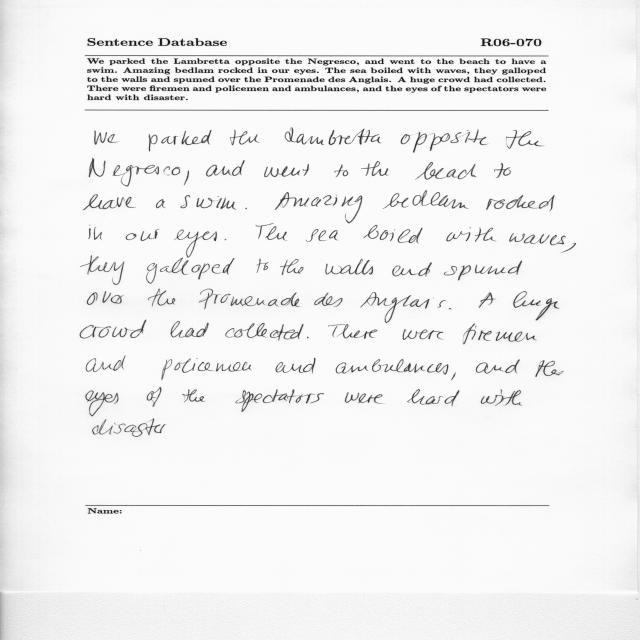word: (275, 192, 362, 223), (360, 292, 446, 323), (90, 158, 181, 187), (146, 258, 234, 284), (401, 129, 488, 153), (235, 389, 324, 412), (199, 289, 299, 309), (162, 358, 252, 380), (336, 359, 449, 375), (285, 128, 381, 145), (444, 261, 522, 281), (463, 324, 536, 345), (383, 191, 468, 209), (514, 291, 560, 320), (226, 323, 304, 340), (149, 130, 212, 151), (81, 255, 125, 285), (174, 229, 217, 258), (80, 320, 146, 338), (363, 225, 423, 244), (415, 162, 477, 180), (486, 195, 555, 211), (407, 389, 460, 406), (180, 195, 236, 210), (83, 195, 135, 211), (86, 391, 118, 417), (325, 259, 373, 275), (124, 419, 166, 437), (447, 227, 497, 242), (328, 324, 378, 339), (506, 130, 544, 149), (481, 389, 522, 406), (509, 233, 566, 245), (206, 160, 245, 177), (170, 321, 209, 338), (476, 359, 520, 374), (87, 356, 126, 372), (392, 262, 432, 277), (276, 358, 316, 373), (264, 164, 309, 177), (256, 223, 287, 241), (93, 419, 126, 435), (88, 291, 124, 305), (148, 289, 175, 307), (536, 360, 564, 377), (345, 392, 382, 404), (403, 329, 443, 340), (230, 130, 259, 145), (314, 292, 343, 307), (361, 161, 389, 176), (306, 229, 338, 242), (126, 229, 160, 241), (280, 259, 303, 275), (95, 131, 119, 145), (182, 390, 205, 403), (147, 387, 161, 407), (479, 292, 495, 308), (494, 163, 511, 178), (89, 225, 102, 240), (335, 165, 349, 178), (257, 259, 269, 273), (561, 243, 576, 253), (156, 199, 165, 208), (184, 171, 189, 186), (451, 373, 456, 381), (449, 308, 452, 310), (245, 208, 247, 210), (307, 337, 309, 339), (225, 239, 227, 240)
